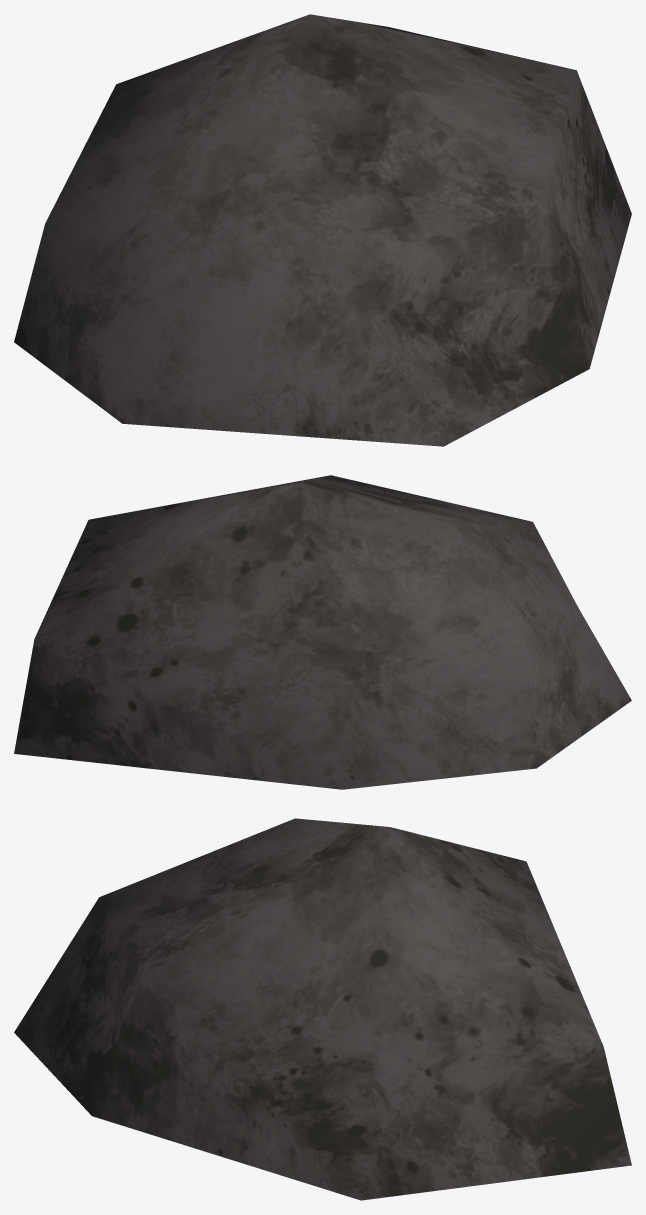
File: rock01.glb
The picture shows the model from 3 angles, top to bottom: view 1: azimuth 30°, elevation 25°; view 2: azimuth 150°, elevation 25°; view 3: azimuth 270°, elevation 25°; orthographic projection. The views are drawn at different scales.
Parts seen in each view (by area): view 1: Cube; view 2: Cube; view 3: Cube.
Boxes of the visible parts, x1=… form: Cube: x1=14, y1=14, x2=631, y2=446; Cube: x1=14, y1=475, x2=631, y2=789; Cube: x1=14, y1=818, x2=631, y2=1200.
Bounding box in the file's own units: 4.52 × 1.98 × 4.47.
Materials: 1 (1 with a texture image).
